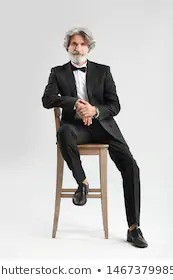F_M_suit jacket: (45, 60, 127, 140)
F_dress pants: (53, 119, 143, 227)
